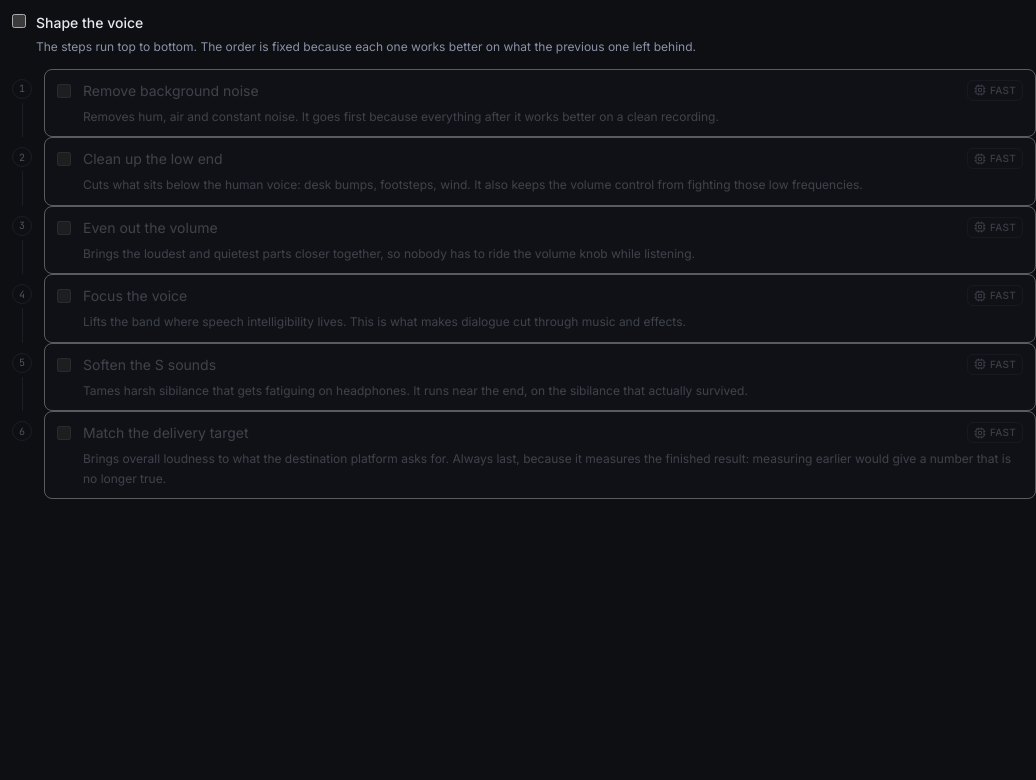
Test case: VoiceChainPanel › hides the delivery target until loudness is on
expect the text "Where is this going?" is not shown: met
Click the checkbox labelled "Shape the voice".
click(19, 21)  # box [12,14,26,28]
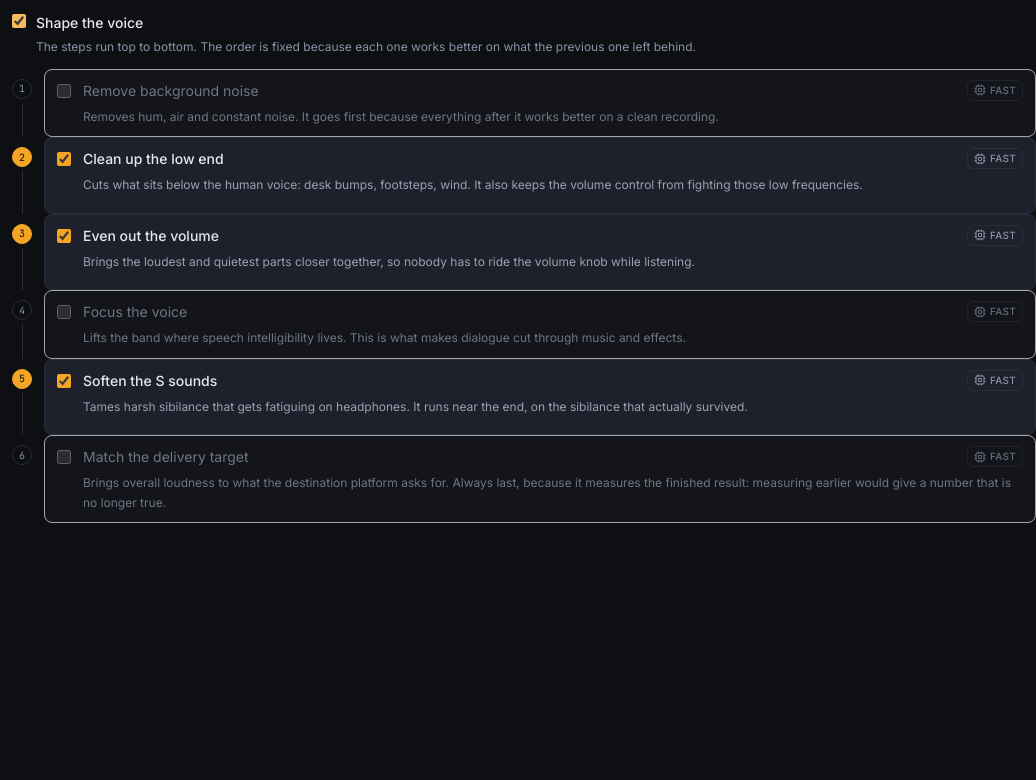
Click the checkbox labelled "Match the delivery target".
click(64, 457)  # box [57,450,71,464]
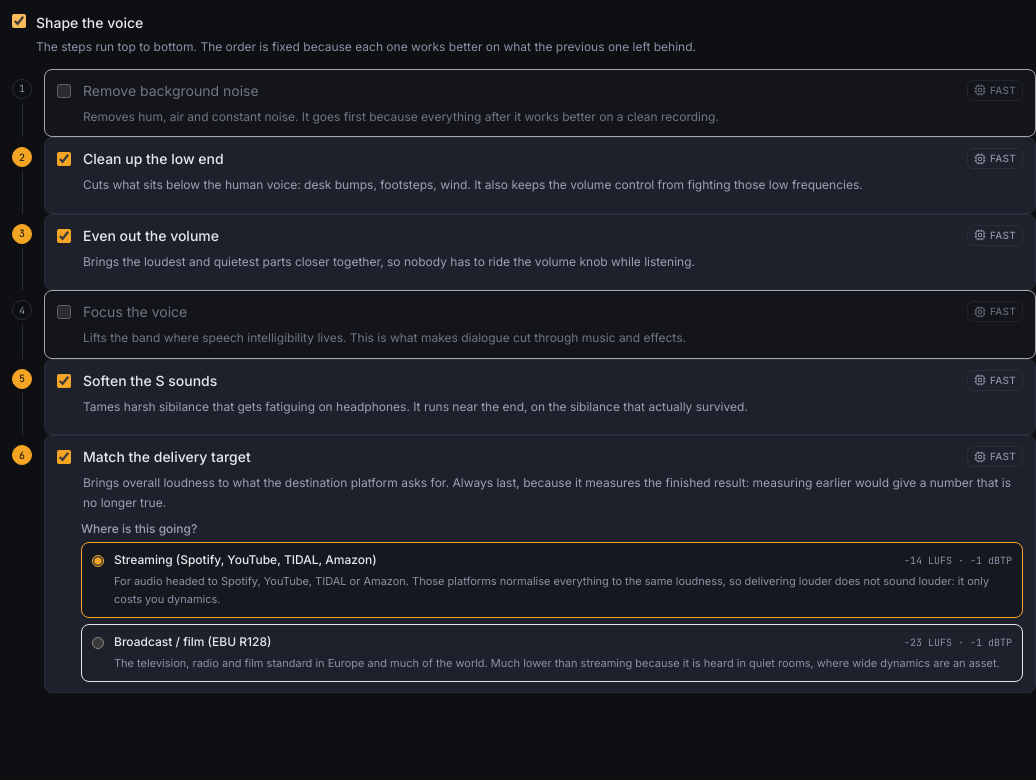
expect the text "Where is this going?" is shown: met, box [81,520,197,542]
